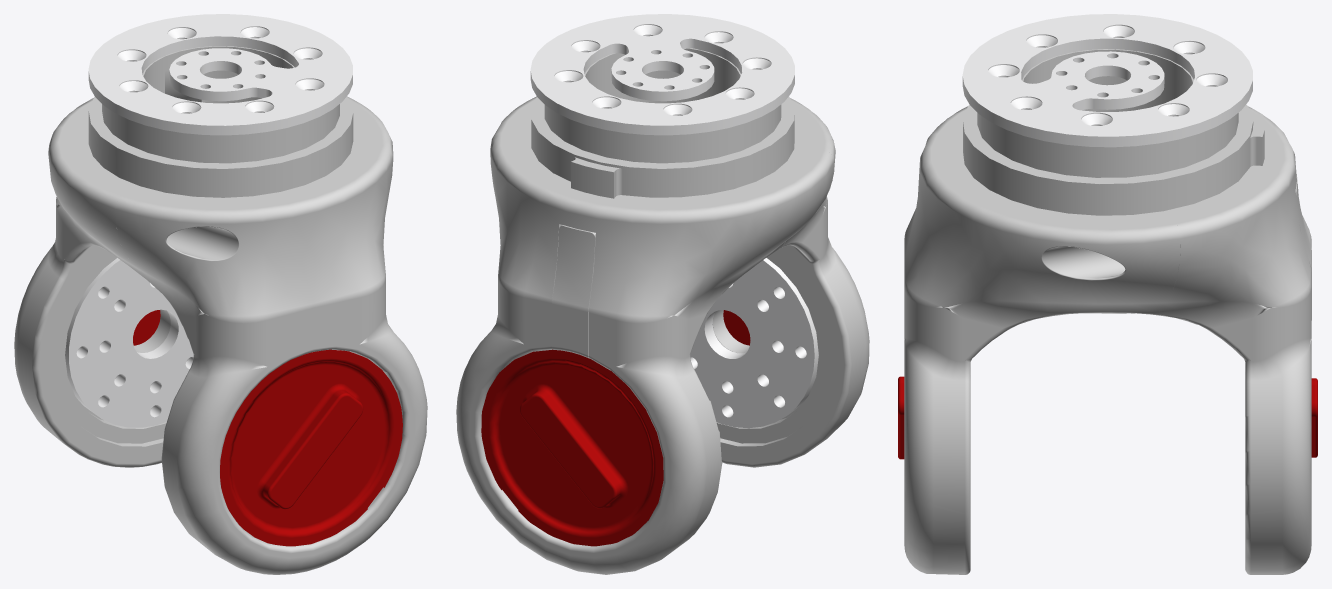
The model's file is Sciurus17_r2.gltf.
3 views of the same model, side by side, from view 1: azimuth 30°, elevation 25°; view 2: azimuth 150°, elevation 25°; view 3: azimuth 270°, elevation 25° (orthographic). The views are drawn at different scales.
Parts seen in each view (by area): view 1: ABSフレームF_C; view 2: ABSフレームF_C; view 3: ABSフレームF_C.
Boxes of the visible parts, left/top/right/bottom form: ABSフレームF_C: left=14, top=14, right=427, bottom=574; ABSフレームF_C: left=456, top=14, right=869, bottom=574; ABSフレームF_C: left=898, top=14, right=1317, bottom=574.
Size of the model in its own units: 0.0654 by 0.092 by 0.0722.
